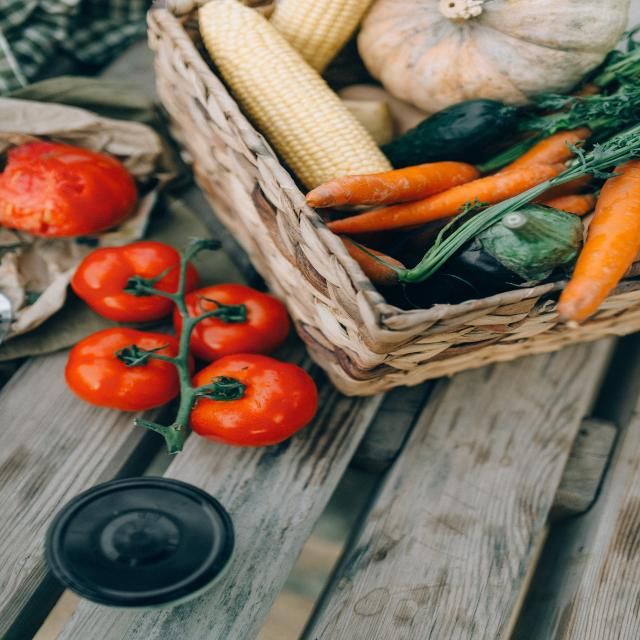Tomato: (174, 354, 324, 452), (65, 322, 193, 412), (84, 236, 208, 319)
